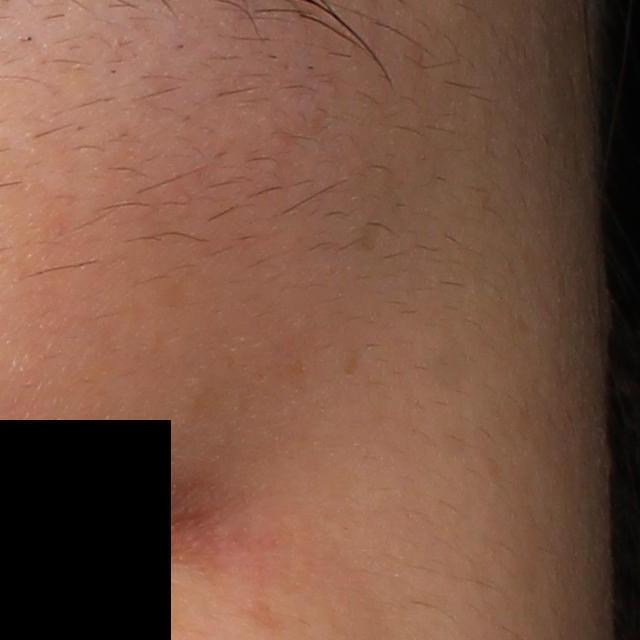melasma: (241, 594, 288, 632), (337, 346, 365, 381)
